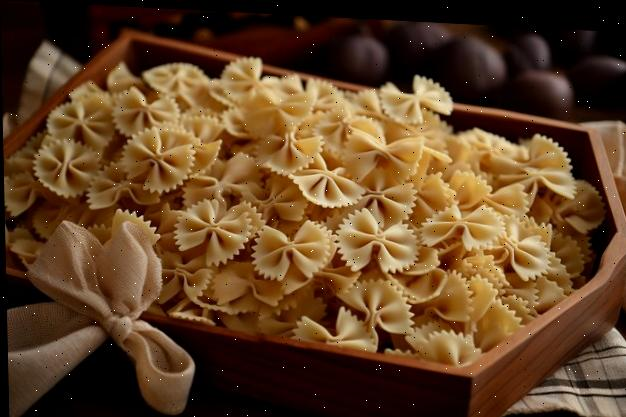pasta: (4, 58, 604, 365), (252, 221, 329, 293), (175, 199, 252, 265), (337, 209, 417, 272), (121, 126, 195, 193), (47, 94, 114, 152), (293, 306, 376, 351), (34, 140, 98, 197), (380, 75, 452, 124), (113, 88, 178, 136), (107, 61, 143, 92)
